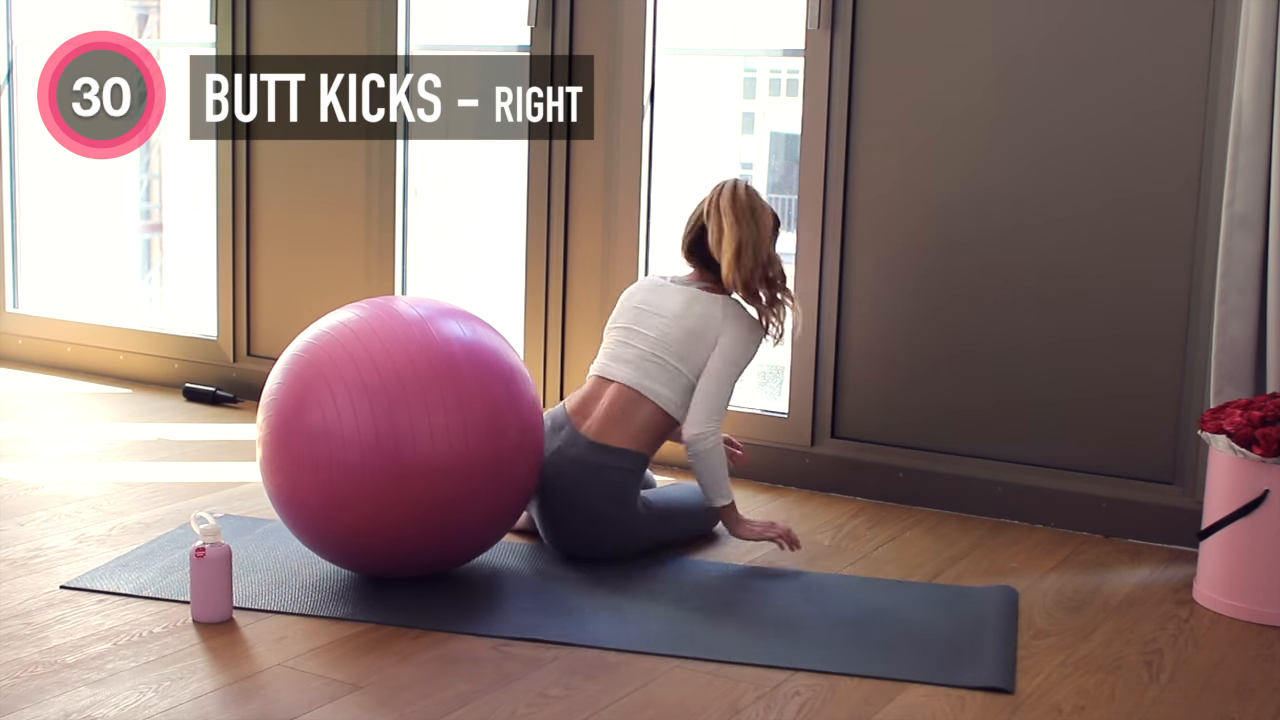yogaball: (249, 290, 552, 588)
